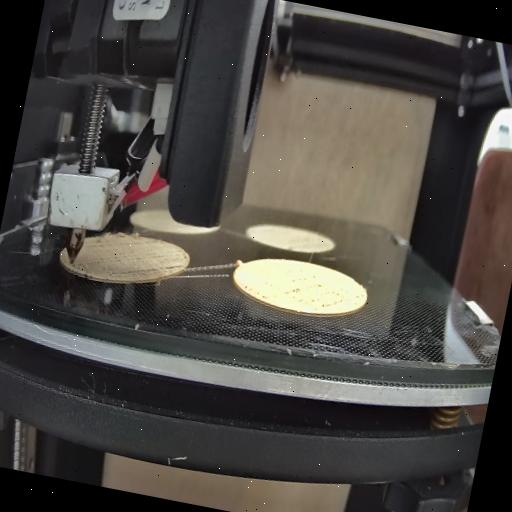under_extrusion: (284, 269, 366, 319), (113, 240, 188, 290), (240, 272, 274, 302), (66, 256, 98, 280)
